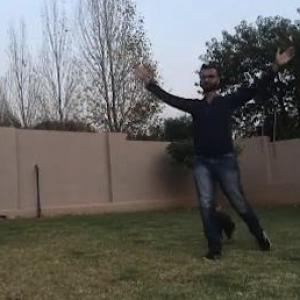takeoff: (155, 67, 295, 263)
